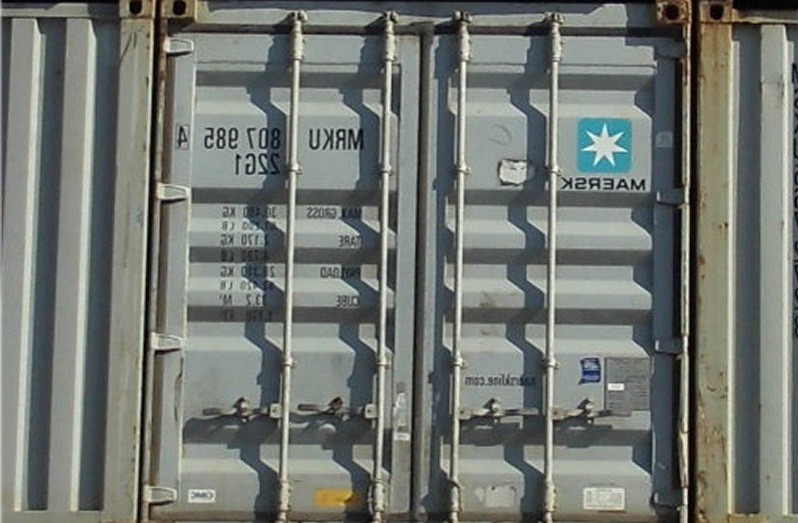container_door: (160, 3, 687, 519)
